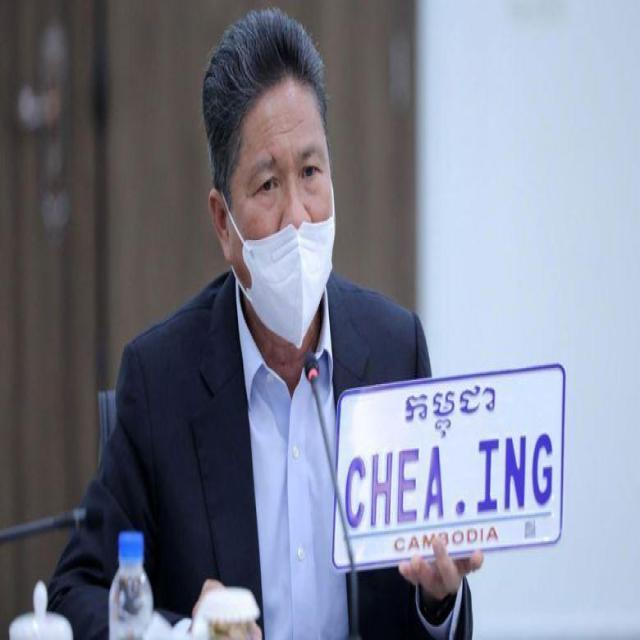Cambodia: (405, 379, 497, 439)
